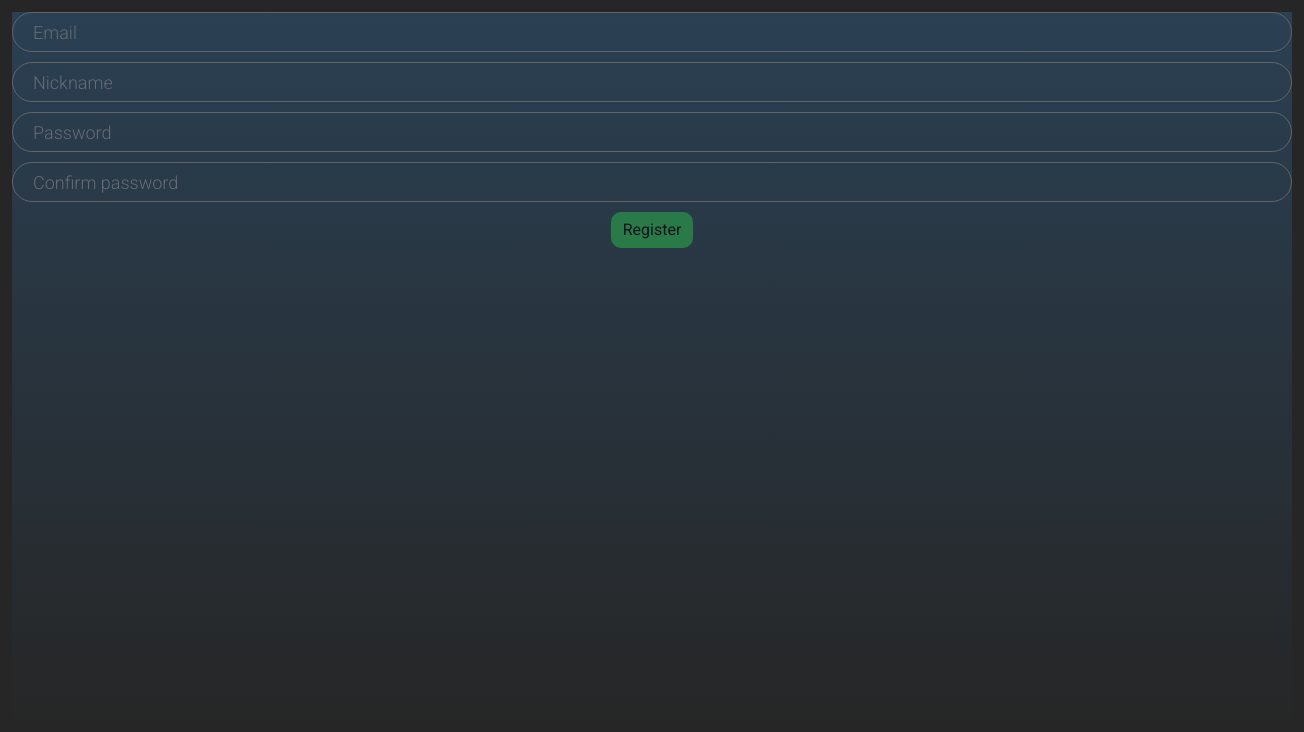
Test: Register form validation › should show an error when password and confirmPassword fields do not match
In the field labelled "Email": (652, 32) [12,12,1292,52], type "user@mail.com"
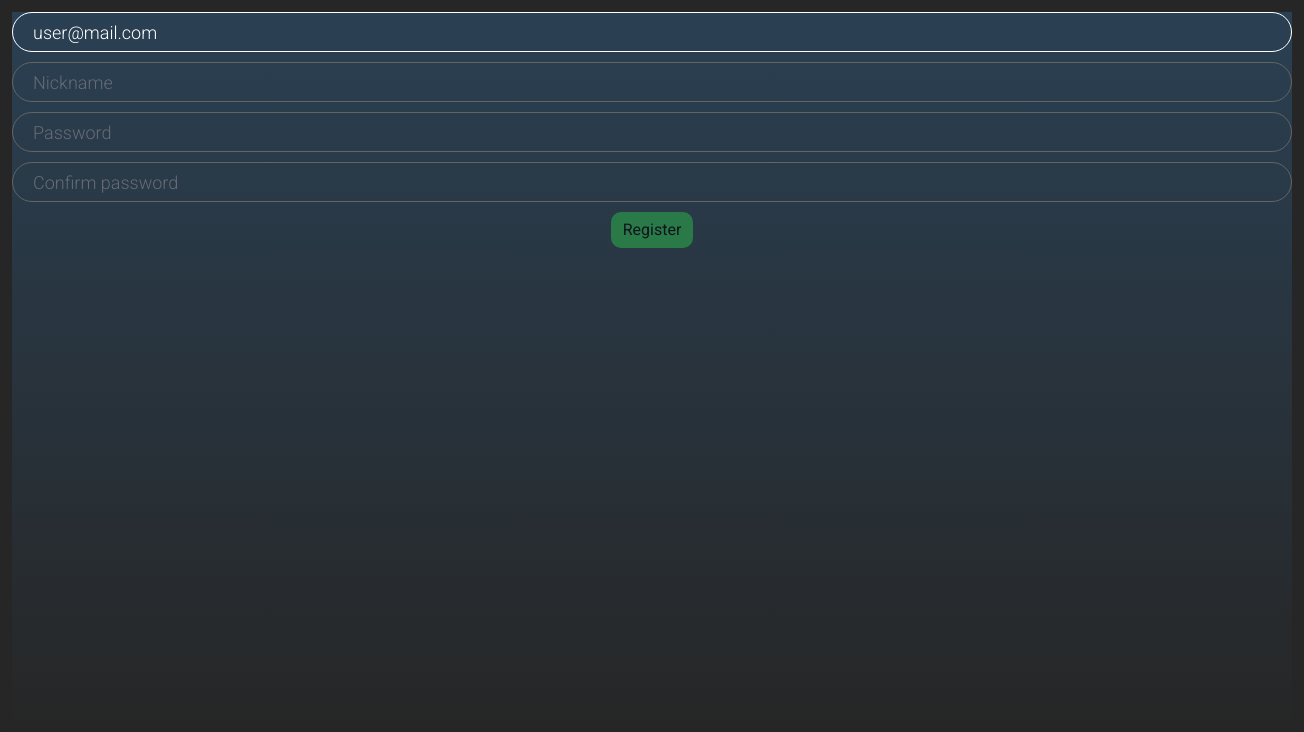
In the field labelled "Nickname": (652, 82) [12,62,1292,102], type "user"
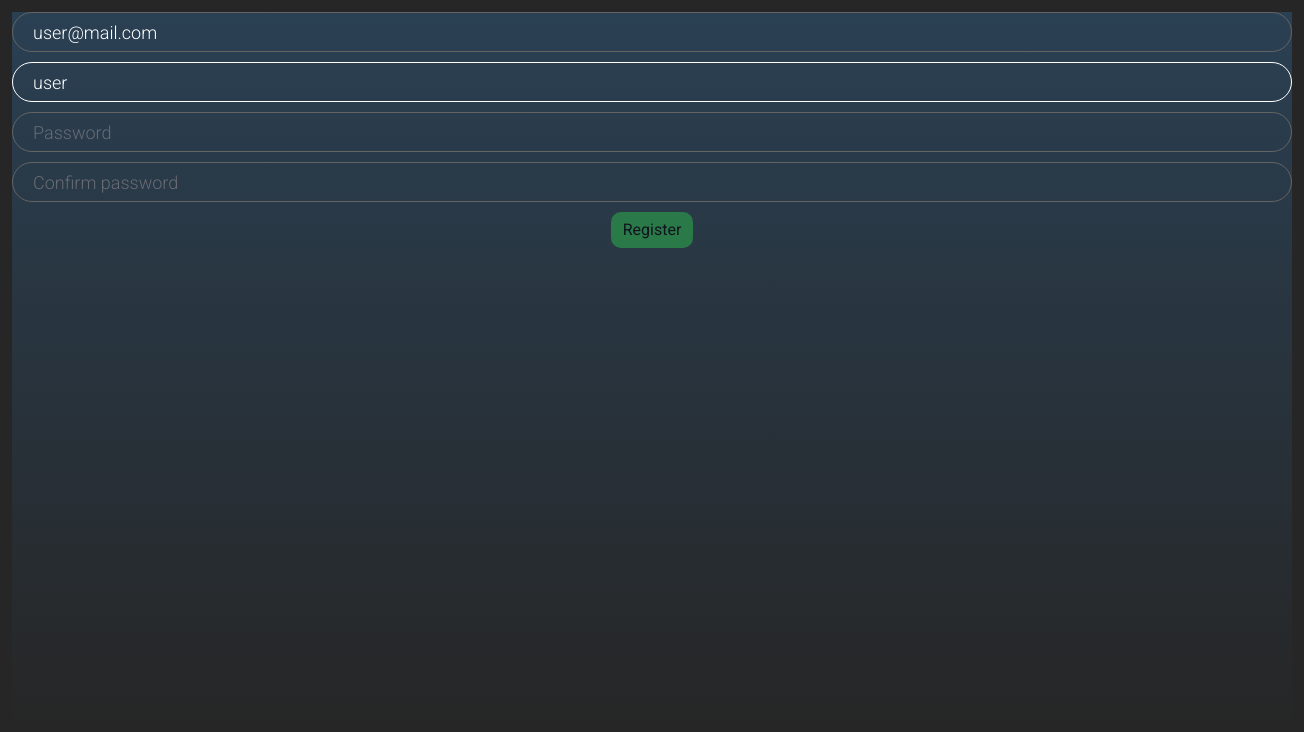
In the password field with placeholder "Password": (652, 132) [12,112,1292,152], type "123123"
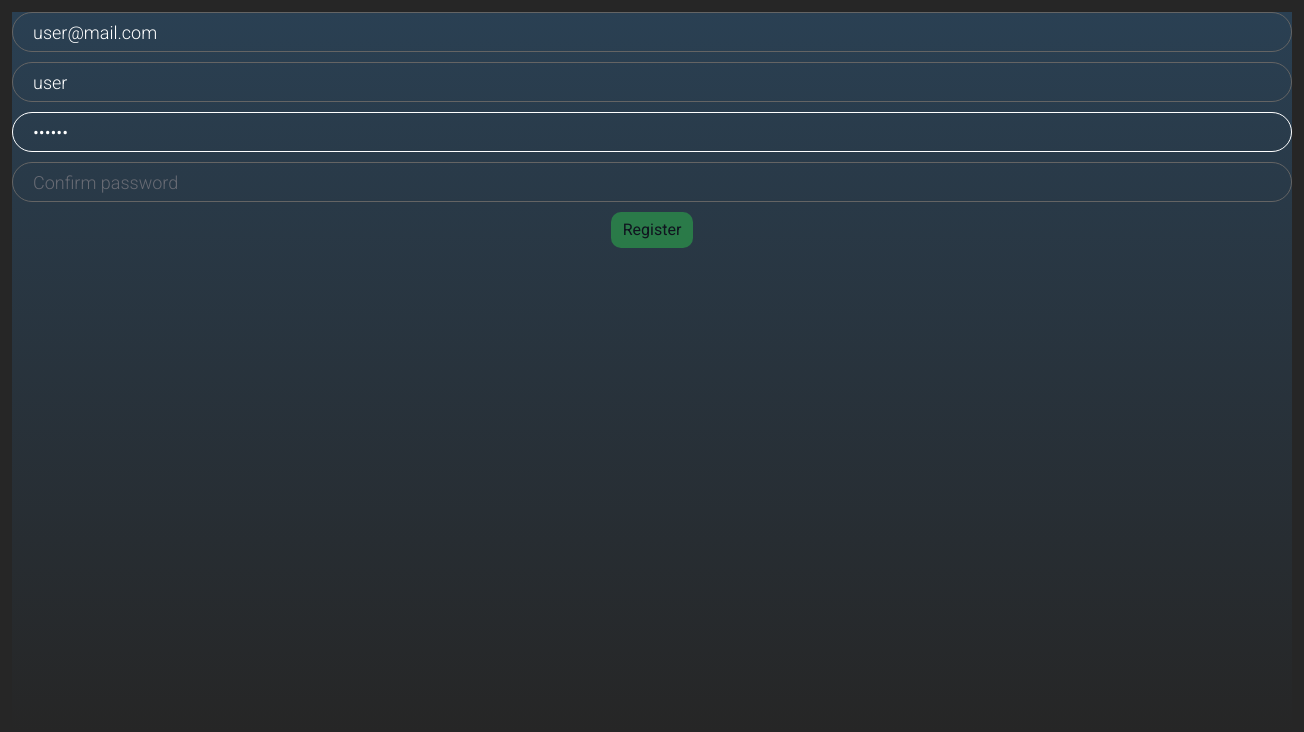
In the password field with placeholder "Confirm password": (652, 182) [12,162,1292,202], type "123"
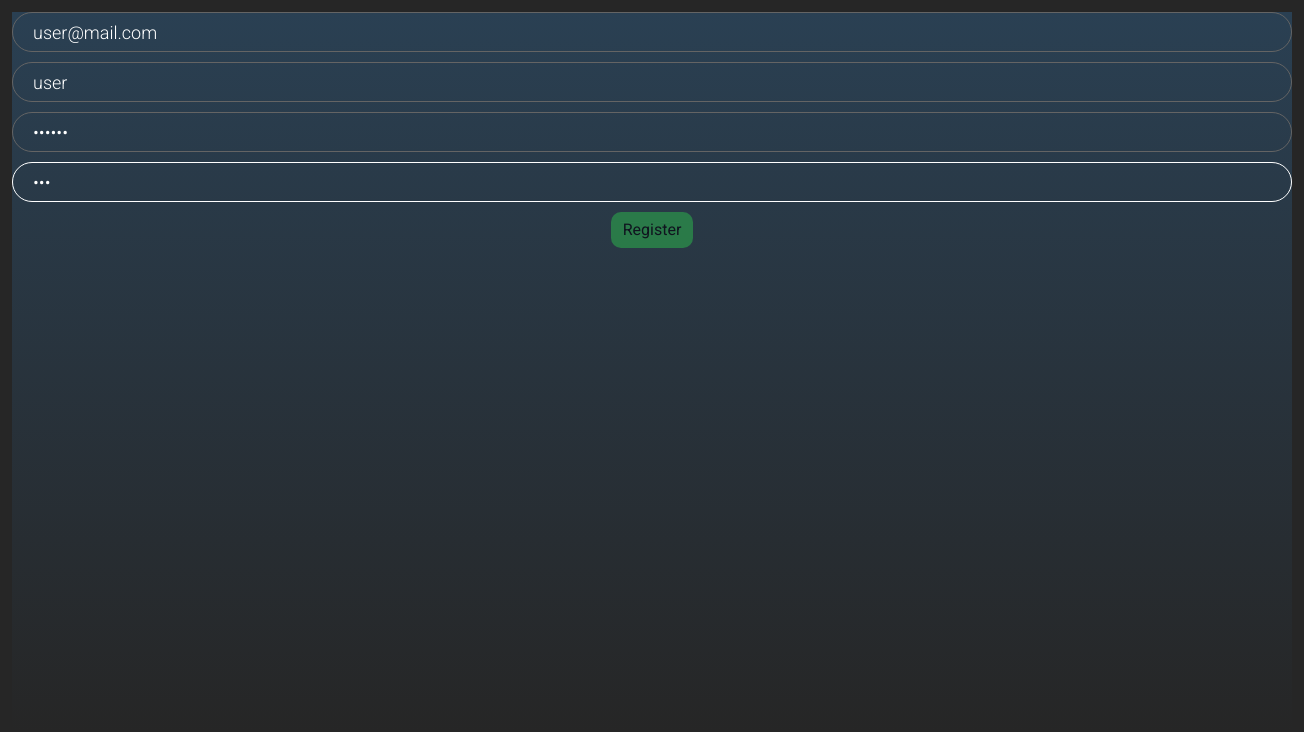
Click the button "Register": (652, 230) [611,212,693,248]
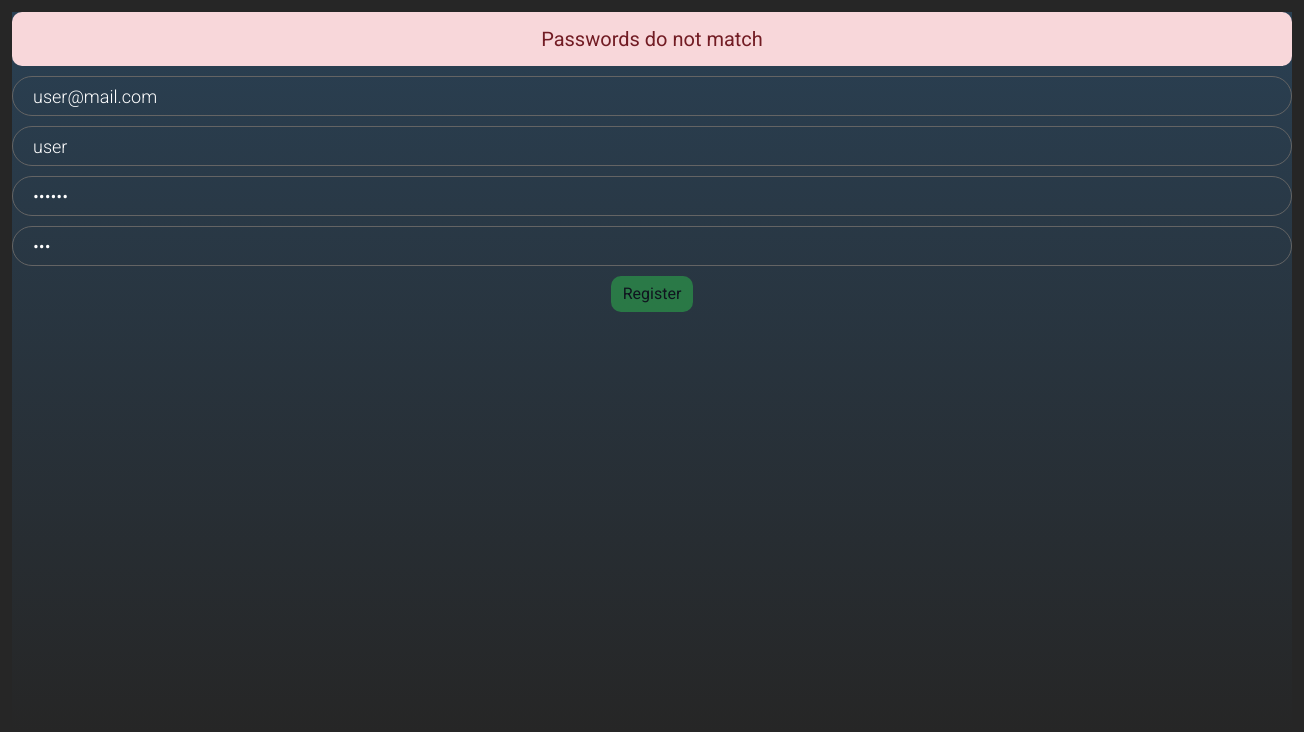
Expected: the text "Passwords do not match" is shown, [12,12,1292,66]
